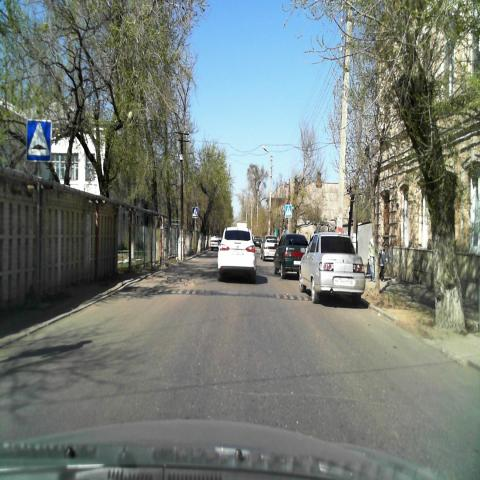5_20: (26, 120, 52, 162)
